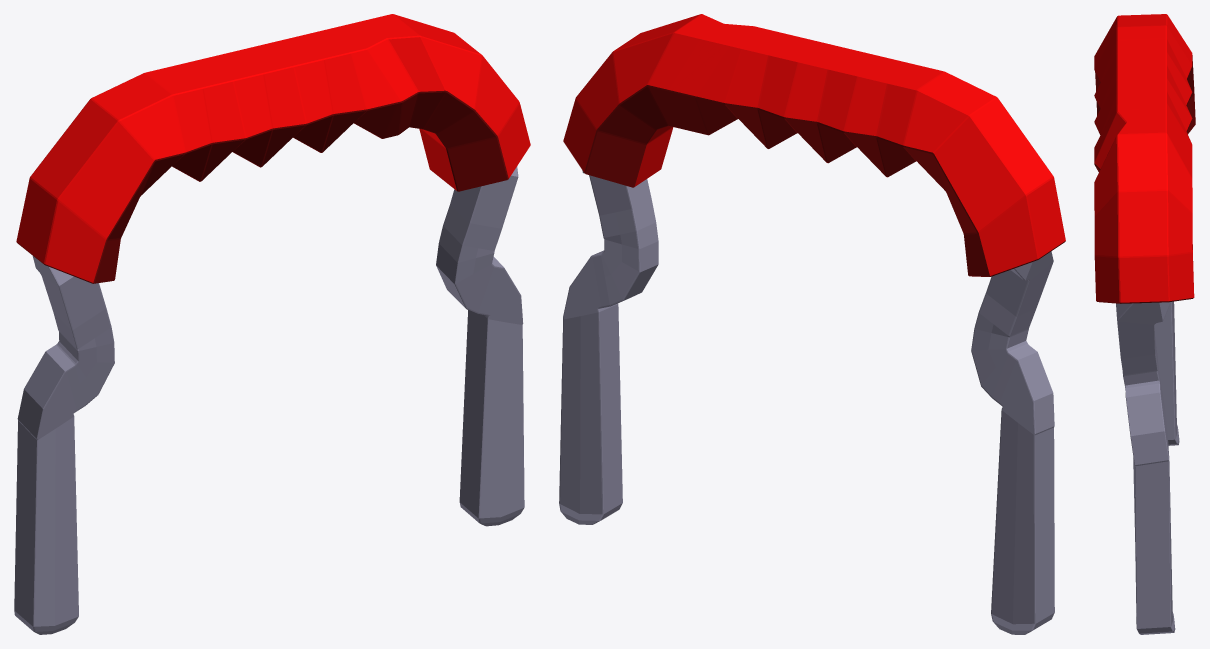
Rendered from AST_actvLever.fbx.
The picture shows the model from 3 angles, left to right: view 1: azimuth 30°, elevation 25°; view 2: azimuth 150°, elevation 25°; view 3: azimuth 270°, elevation 25°; orthographic projection. The views are drawn at different scales.
Visible parts, largest first — view 1: Door:Mesh; view 2: Door:Mesh; view 3: Door:Mesh.
Part boxes in pixels (x1=…): Door:Mesh: x1=14, y1=14, x2=530, y2=634; Door:Mesh: x1=559, y1=14, x2=1065, y2=634; Door:Mesh: x1=1094, y1=14, x2=1195, y2=634.
Bounding box in the file's own units: 25.11 × 25.88 × 5.15.
